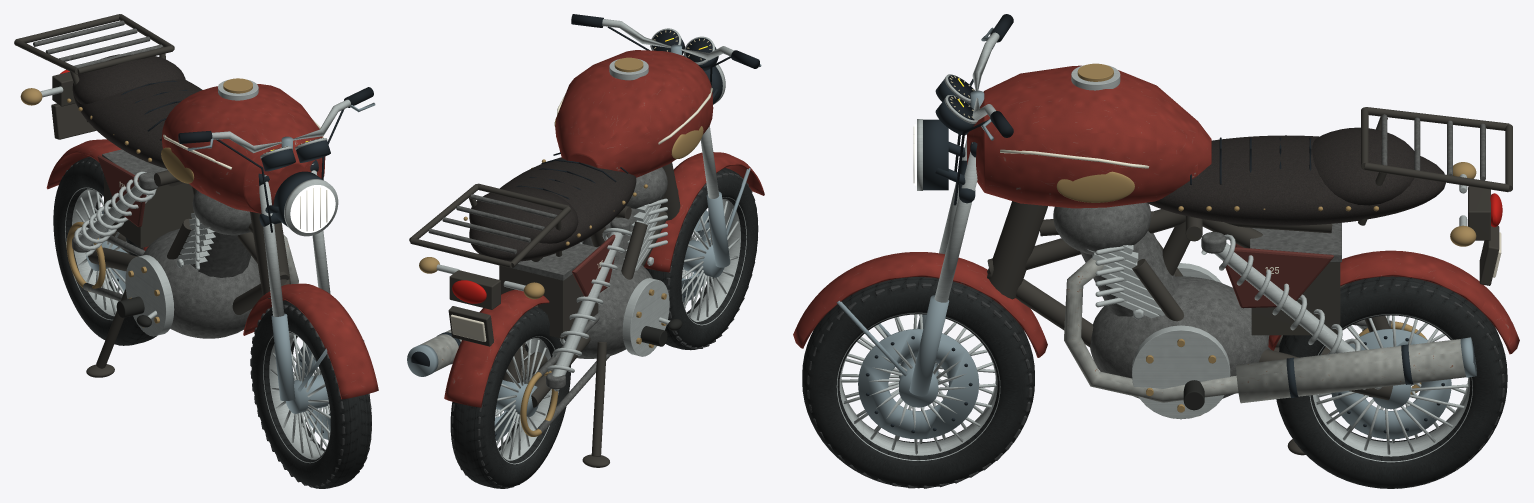
Rendered from 破旧跨骑摩托车.glb.
3 renders of one model, left to right at view 1: azimuth 30°, elevation 25°; view 2: azimuth 150°, elevation 25°; view 3: azimuth 270°, elevation 25°, orthographic. The views are drawn at different scales.
Visible parts, largest first — view 1: Body, Wheel.Front, Steering, Wheel.Rear, Carrier, Light.Front, Light.Rear; view 2: Body, Wheel.Rear, Wheel.Front, Steering, Carrier, Light.Rear, Exhaust, Light.Front; view 3: Body, Wheel.Front, Wheel.Rear, Steering, Exhaust, Carrier, Light.Rear, Light.Front.
Part boxes in pixels (box(x1,y1,x2,y2)): Body: box(46, 54, 325, 377); Wheel.Front: box(250, 300, 371, 488); Steering: box(178, 87, 378, 400); Wheel.Rear: box(53, 156, 156, 345); Carrier: box(14, 14, 174, 122); Light.Front: box(273, 171, 338, 236); Light.Rear: box(20, 69, 96, 139); Body: box(444, 50, 713, 467); Wheel.Rear: box(450, 306, 570, 488); Wheel.Front: box(645, 168, 758, 350); Steering: box(571, 14, 764, 272); Carrier: box(409, 183, 570, 268); Light.Rear: box(419, 257, 544, 346); Exhaust: box(407, 329, 461, 376); Light.Front: box(683, 55, 725, 104); Body: box(967, 63, 1519, 455); Wheel.Front: box(802, 277, 1034, 488); Wheel.Rear: box(1276, 276, 1507, 488); Steering: box(793, 14, 1047, 396); Exhaust: box(1064, 257, 1476, 403); Carrier: box(1358, 107, 1512, 225); Light.Rear: box(1450, 162, 1502, 285); Light.Front: box(913, 119, 948, 190).
Bounding box in the file's own units: 0.7397 × 1.26 × 2.
21 materials, 7 textured.
